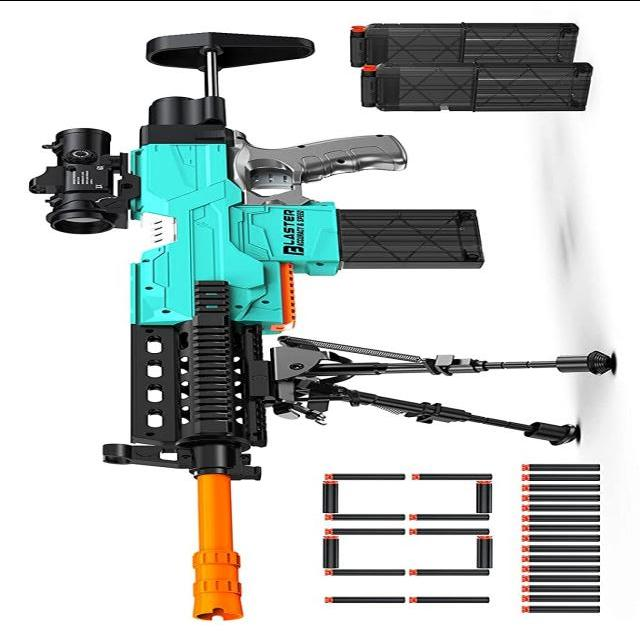scope: (1, 108, 129, 260)
sniper rifle: (28, 29, 611, 627), (20, 1, 312, 625)
